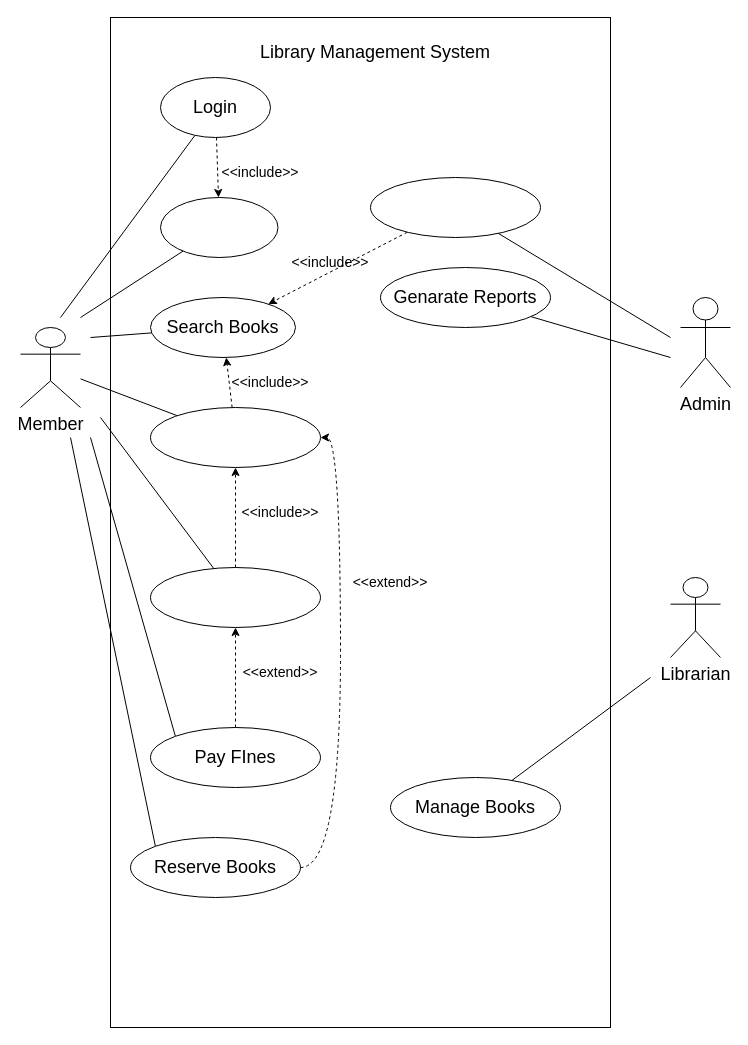
The diagram is 748 pixels wide and 1045 high, and some of its shapes have lost their labels. The shapes that lost their labels are listed below. From the top down, each one's box as (x1, y1, x2, y2) in pixels, then its label:
(160, 196, 278, 258): Register
(370, 176, 540, 238): Manage Users
(150, 406, 320, 468): Borrow Books
(150, 566, 320, 628): Return Books
